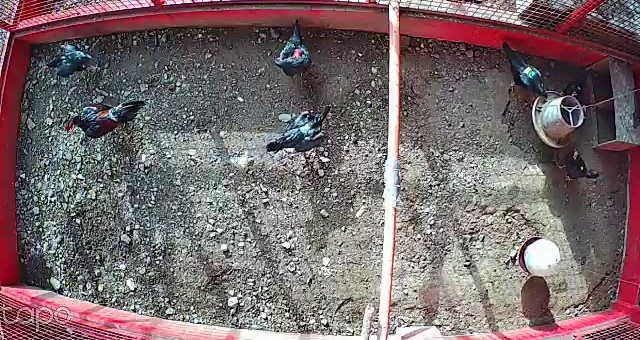Chicken: (260, 102, 340, 159), (496, 36, 548, 103), (271, 14, 318, 80), (42, 38, 106, 82), (552, 143, 600, 185), (557, 68, 597, 101)
Rooster: (63, 90, 149, 143)
Saddle_Color_Red: (293, 48, 303, 58)
Saddle_Color_YellowGreen: (521, 64, 535, 77)
